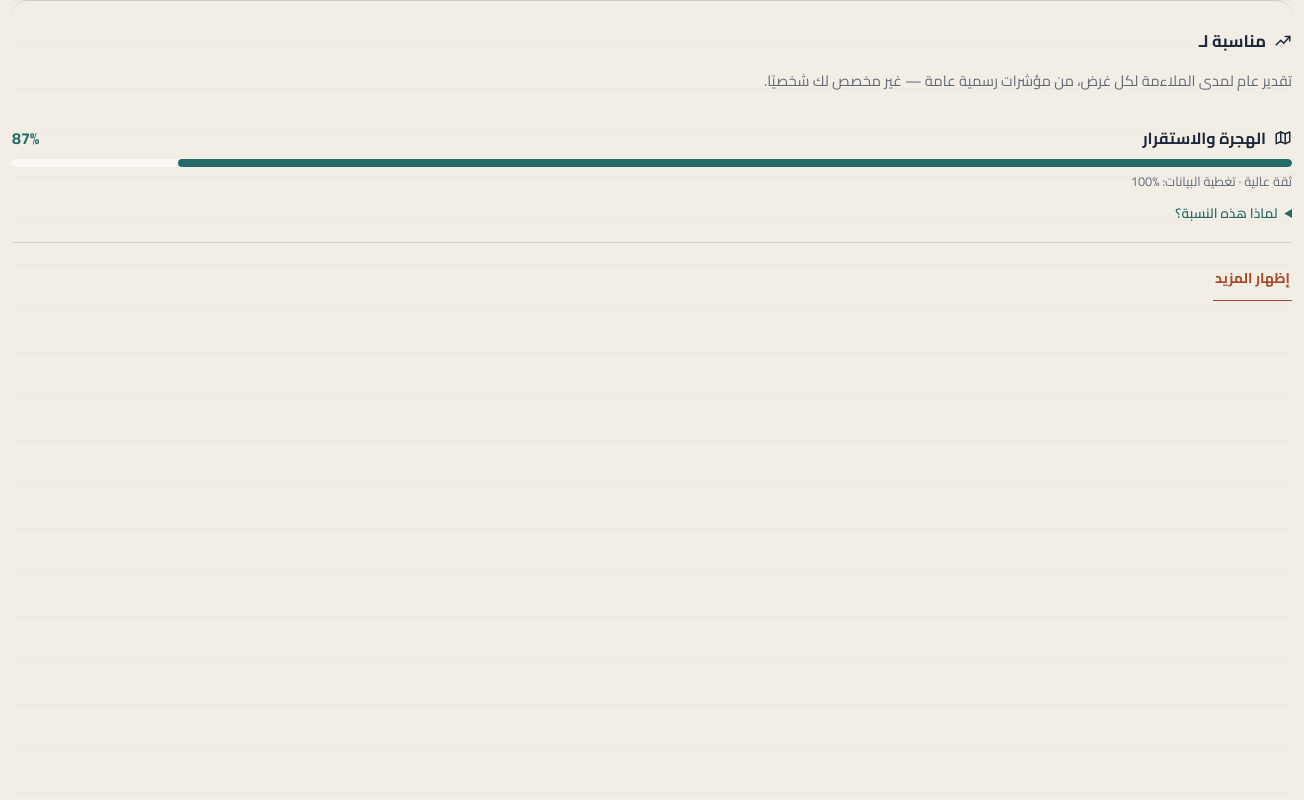
CountrySuitability — highest purpose first with progressive disclosure › localizes the disclosure control in Arabic
The image size is (1304, 800).
What coordinates should you click on to do the following:
click the button "إظهار المزيد"
I would click on:
 (1252, 279)
Its box is top-left (1213, 257), bottom-right (1292, 301).
(page scrolled)
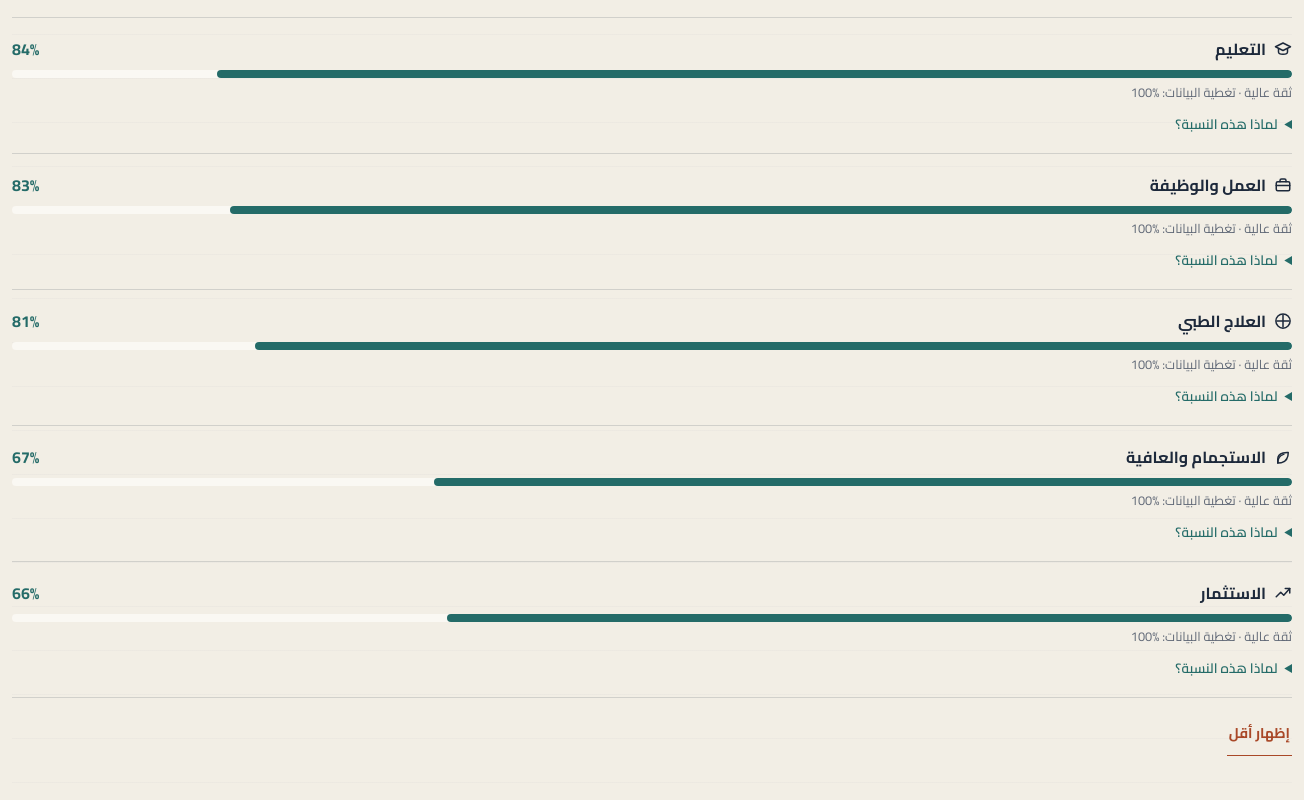
Check: the button "إظهار أقل" is shown, box top-left (1227, 712), bottom-right (1292, 756)
